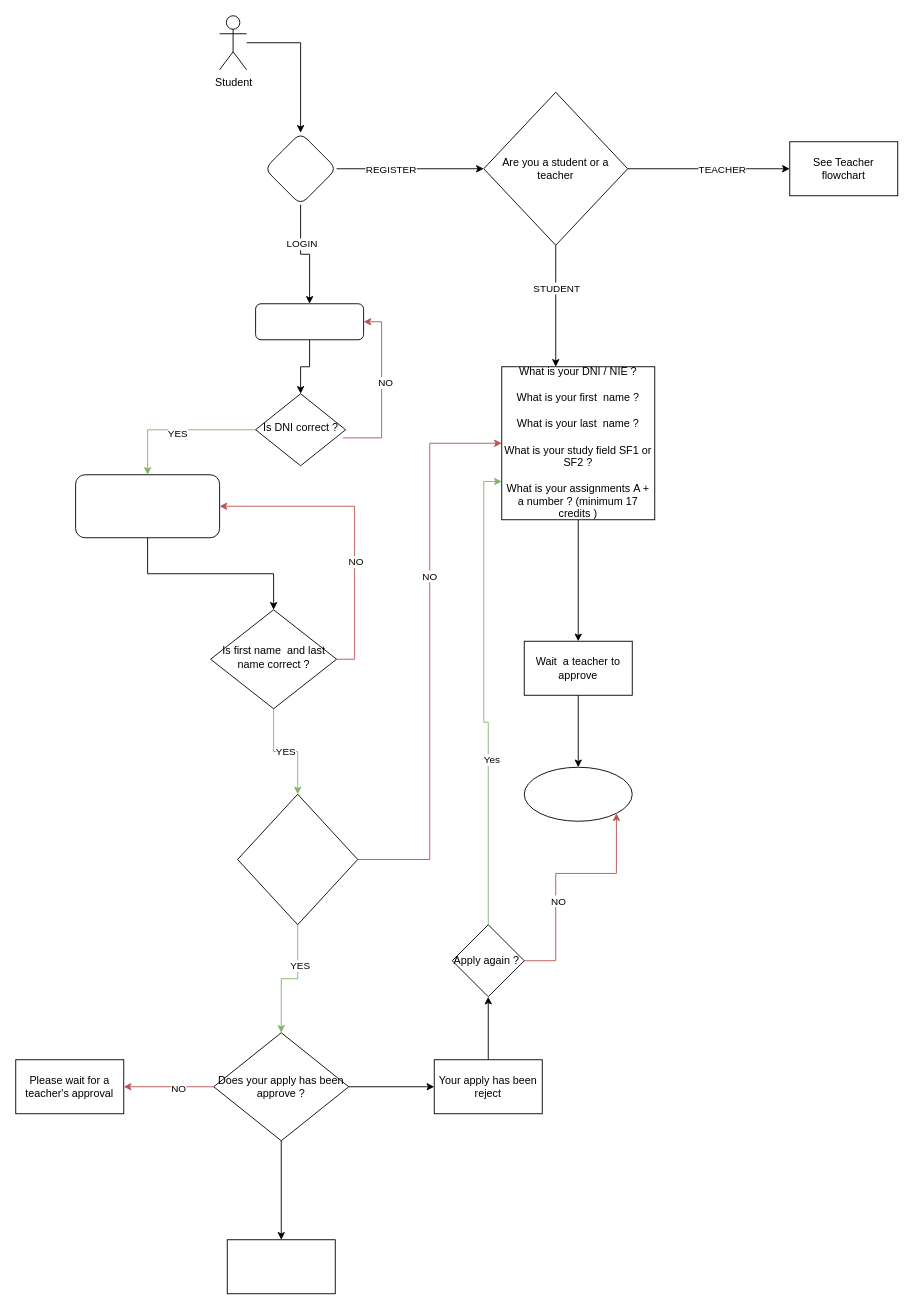
This 914x1310 diagram has some shape labels left out. Here are the shapes that lost their labels. From the top down, the centre of each, then its label:
pixel 300 168: Login or Register
pixel 309 321: What is your DNI ?
pixel 147 506: What is your First name ? What is your last name ?
pixel 577 793: Log out
pixel 297 859: Did you apply for the assignements ?
pixel 280 1266: Can see your information and your credit number
